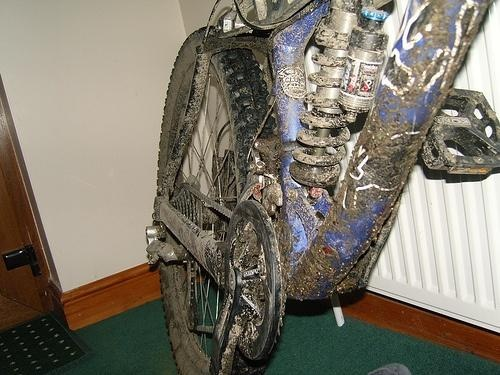bicycle: (147, 1, 500, 374)
